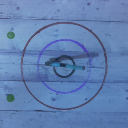Axe Tip: (49, 60, 61, 62)
